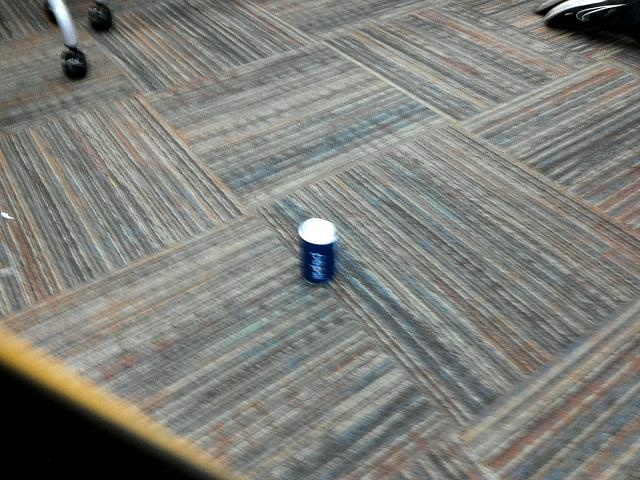can: (292, 214, 344, 293)
